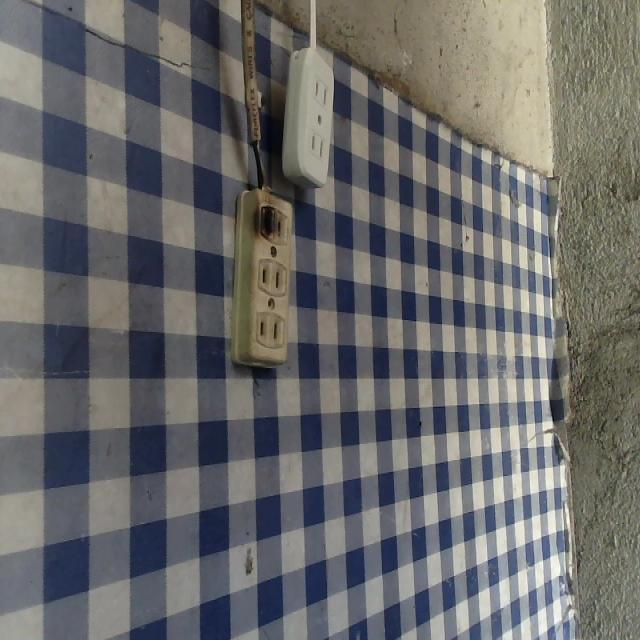-: (255, 196, 278, 247)
